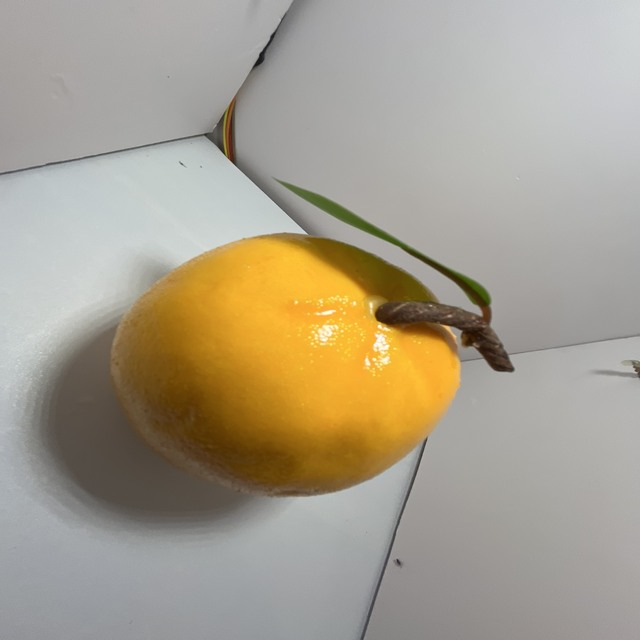Cam vang: (109, 227, 479, 502)
